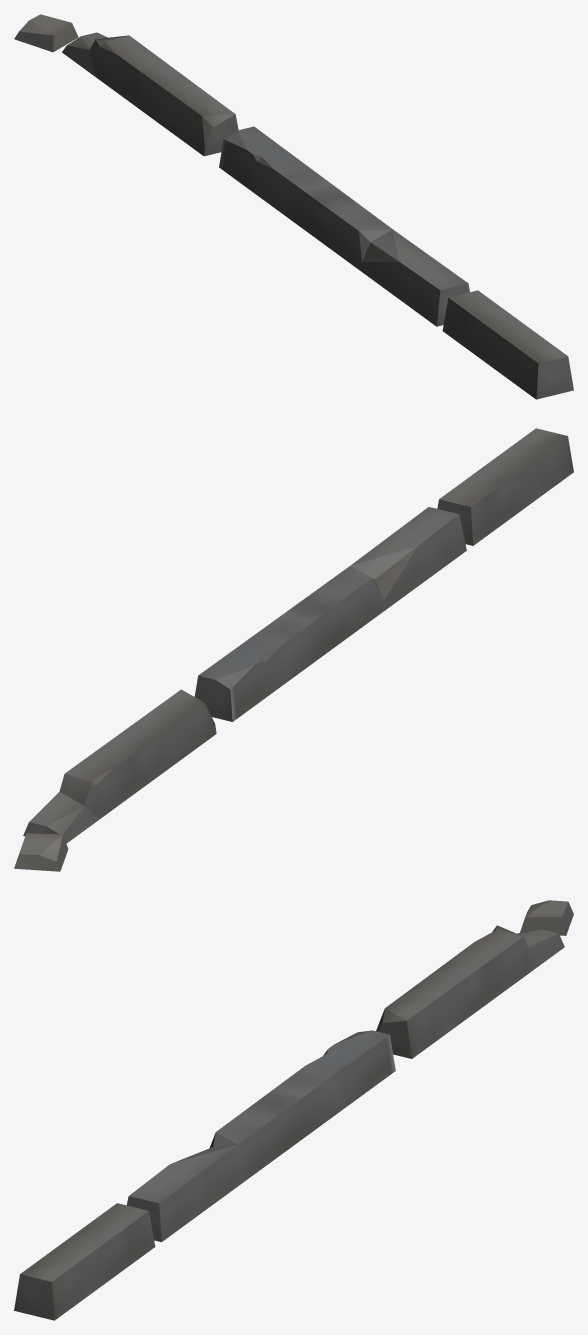
The model's file is bz_porebriki_collection.fbx.
The picture shows the model from 3 angles, top to bottom: view 1: azimuth 30°, elevation 25°; view 2: azimuth 150°, elevation 25°; view 3: azimuth 330°, elevation 25°; orthographic projection. The views are drawn at different scales.
Visible parts, largest first — view 1: bz_road_poreb_01.002, bz_road_poreb_01.001, bz_road_poreb_01; view 2: bz_road_poreb_01.002, bz_road_poreb_01.001, bz_road_poreb_01; view 3: bz_road_poreb_01.002, bz_road_poreb_01.001, bz_road_poreb_01.
Boxes of the visible parts, x1,y1,x2,y2 form: bz_road_poreb_01.002: (219,126,469,326); bz_road_poreb_01.001: (14,14,238,156); bz_road_poreb_01: (442,290,573,399); bz_road_poreb_01.002: (194,507,466,721); bz_road_poreb_01.001: (14,689,216,871); bz_road_poreb_01: (437,428,573,545); bz_road_poreb_01.002: (127,1030,395,1242); bz_road_poreb_01.001: (376,900,573,1058); bz_road_poreb_01: (14,1203,155,1320).
Size of the model in its own units: 0.2229 by 0.12 by 3.26.
